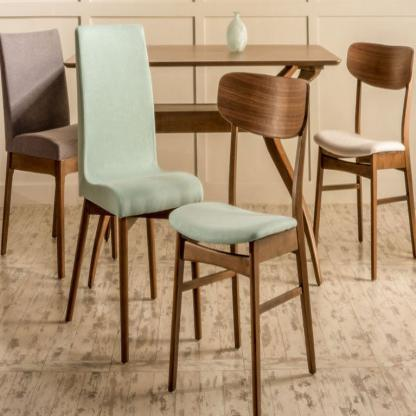chair: (165, 55, 319, 416), (68, 18, 206, 369), (312, 34, 416, 279), (0, 0, 77, 279)
table: (64, 37, 344, 286)
